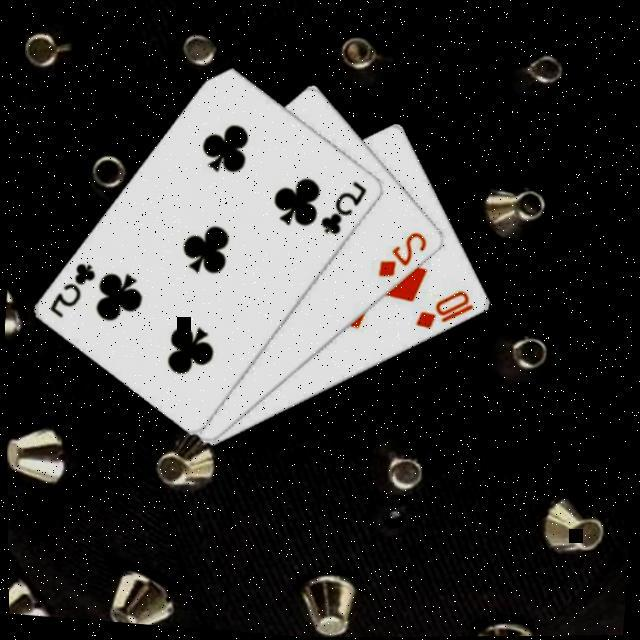10D: (408, 285, 476, 337)
2D: (371, 226, 428, 284)
5C: (42, 256, 98, 324), (312, 176, 368, 240)
